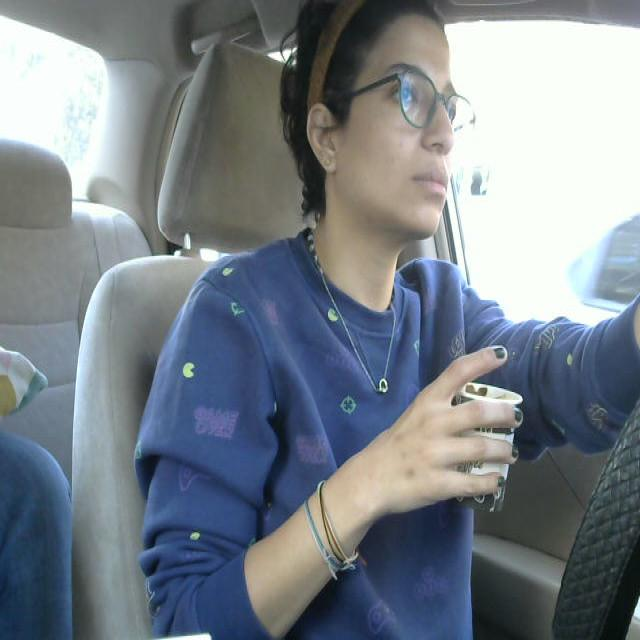drinking: (448, 357, 525, 528)
